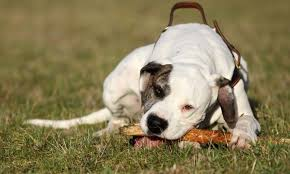dog: (19, 21, 281, 154)
